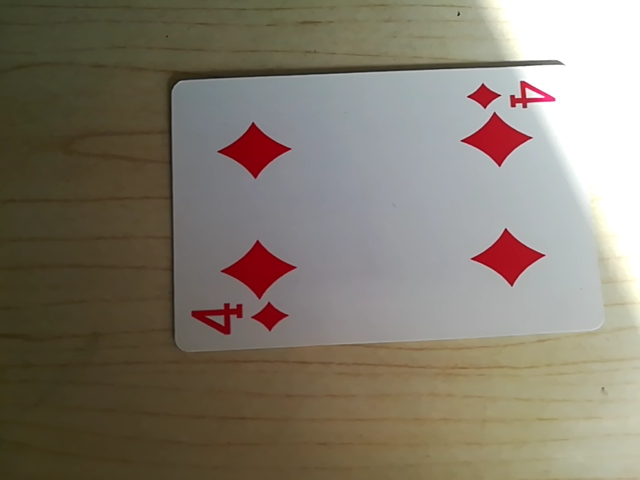fk 4: (185, 295, 287, 346), (467, 73, 564, 117)
